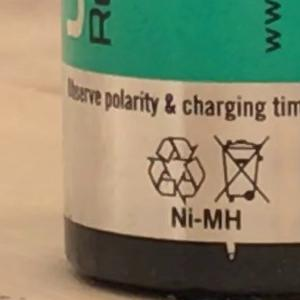NI-MH: (162, 199, 251, 238)
